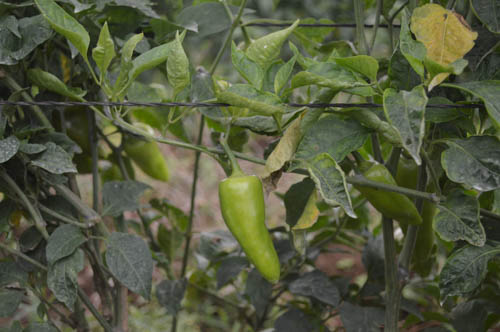ChiliPepper: (217, 172, 287, 284), (396, 159, 430, 260), (358, 168, 419, 223), (125, 122, 169, 179)
